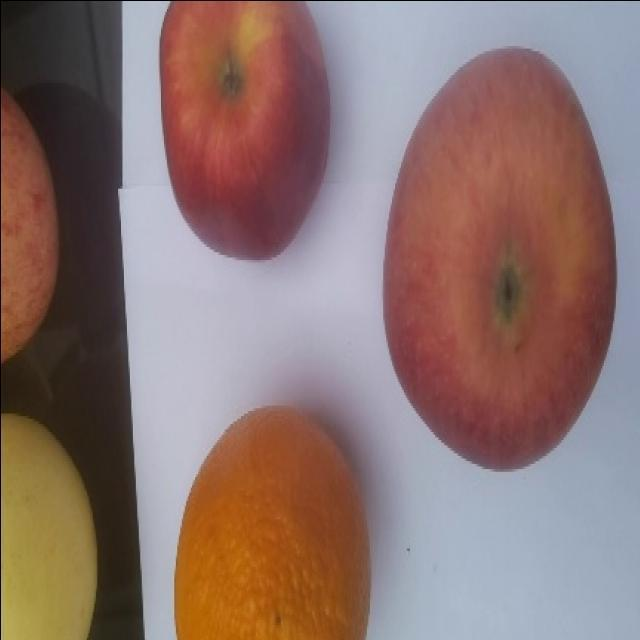Apple: (382, 45, 617, 471), (158, 0, 331, 261), (0, 87, 60, 364)
Orange: (173, 404, 371, 639)
